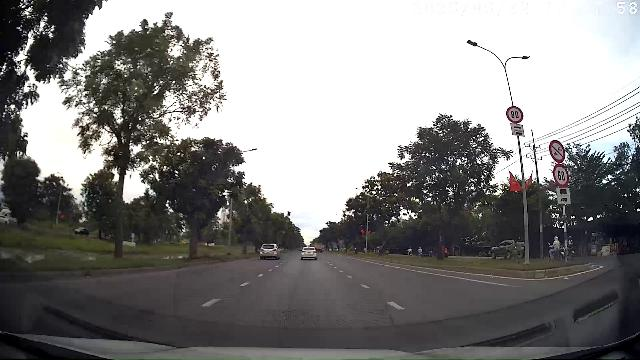127-toc-do-toi-da-60: (553, 164, 570, 188)
127-toc-do-toi-da-80: (506, 106, 524, 123)
